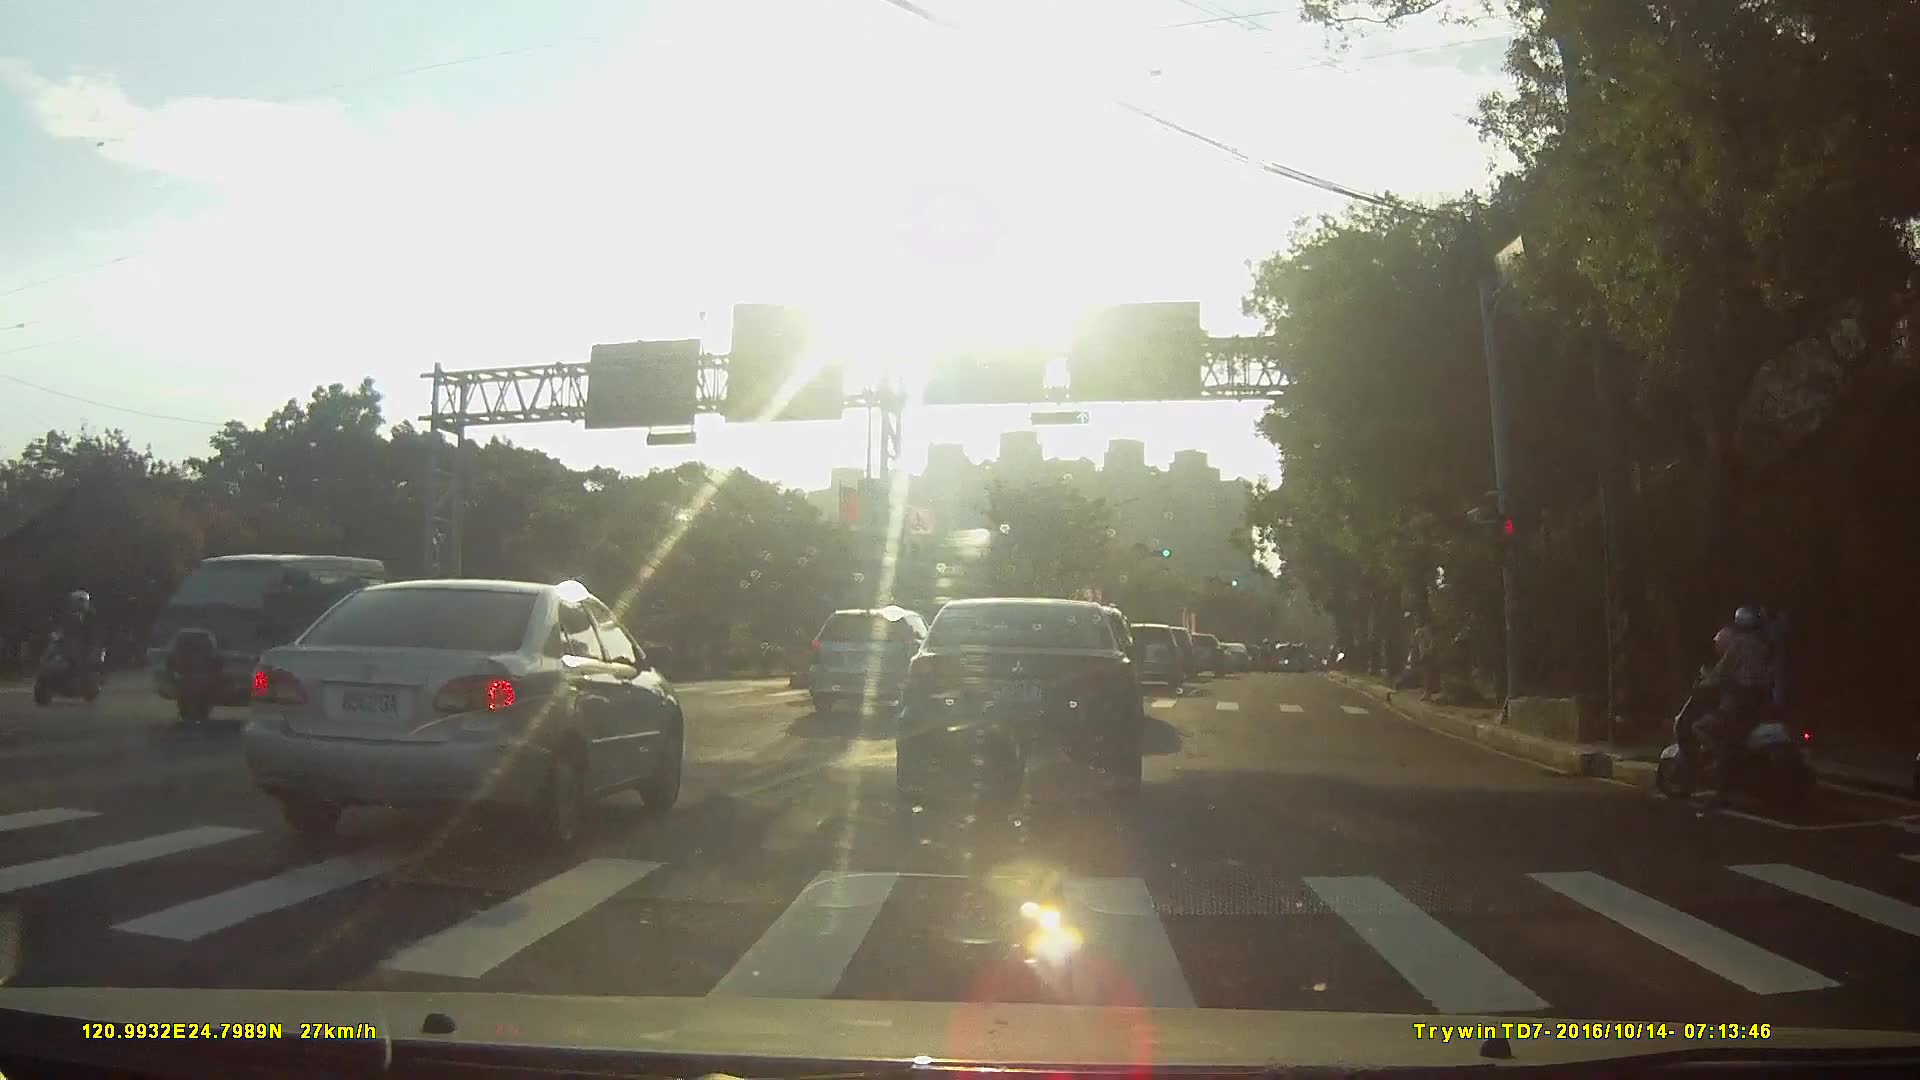pedestrian: (1744, 585, 1804, 748)
rider: (1656, 605, 1821, 817), (37, 589, 107, 707)
vehicle: (233, 577, 687, 853), (893, 597, 1146, 804), (128, 545, 403, 725), (803, 608, 946, 718), (1109, 623, 1183, 690), (1173, 632, 1223, 674), (1213, 644, 1250, 672)
